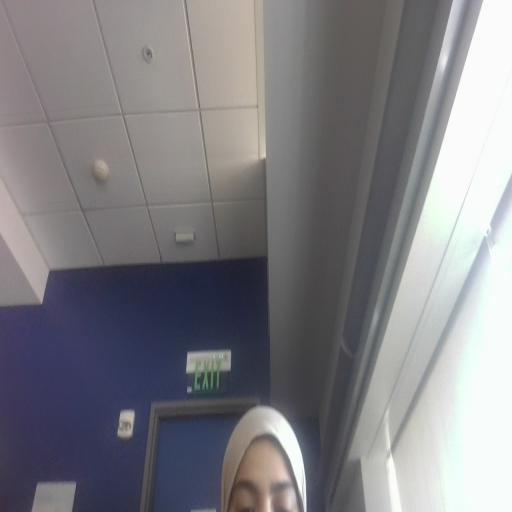lookingdownatphone: (221, 407, 306, 511)
